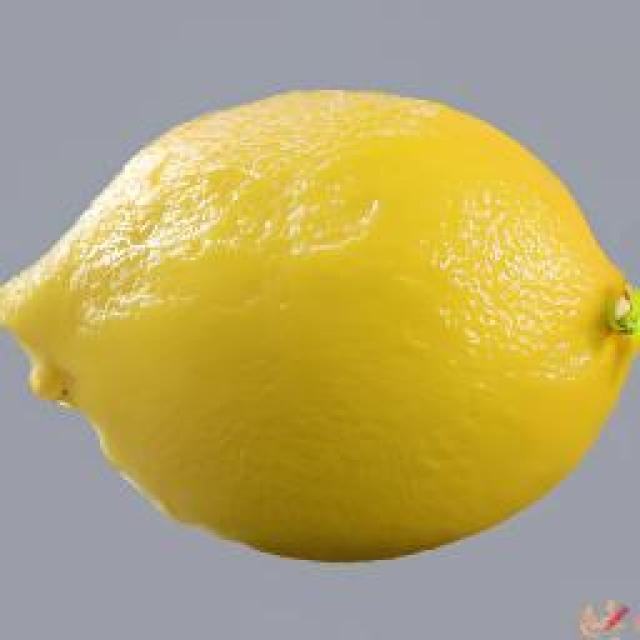Lemon: (0, 89, 640, 566)
